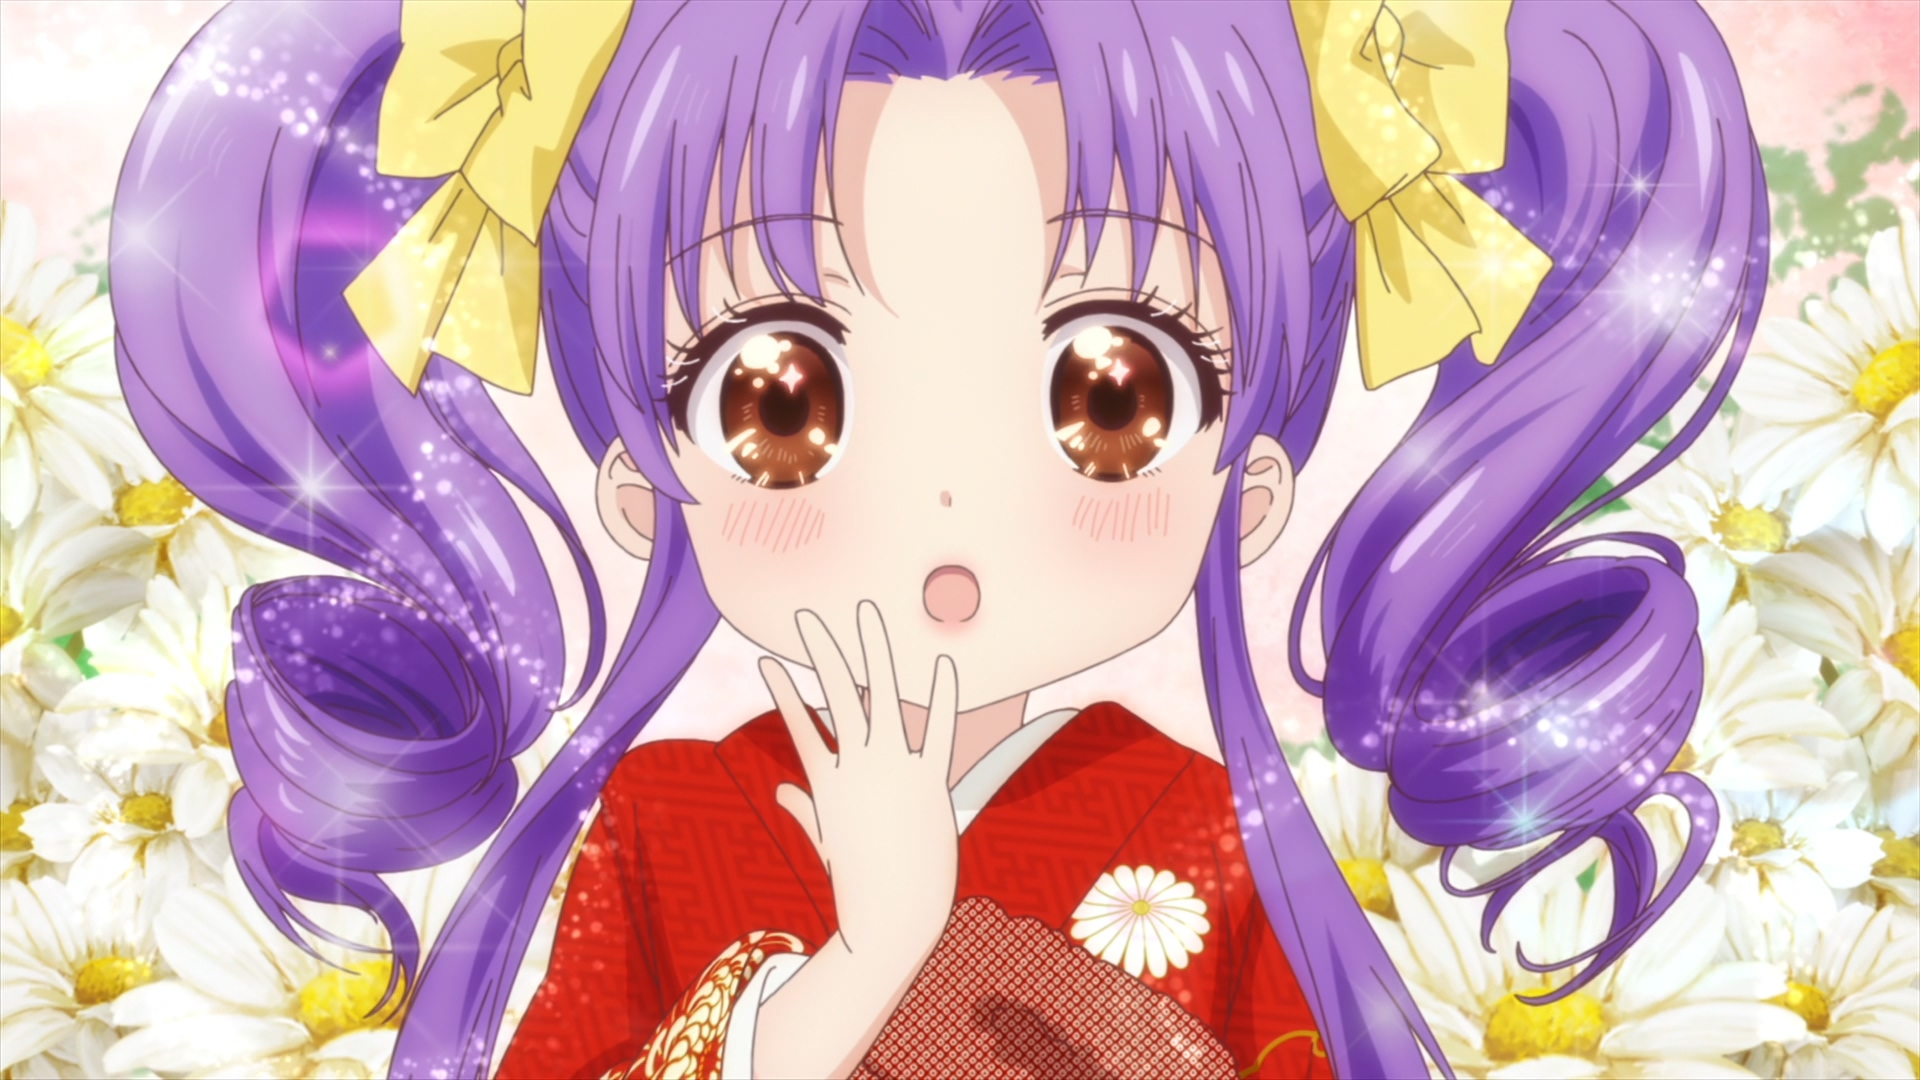阿菊: (105, 1, 1772, 1080)
